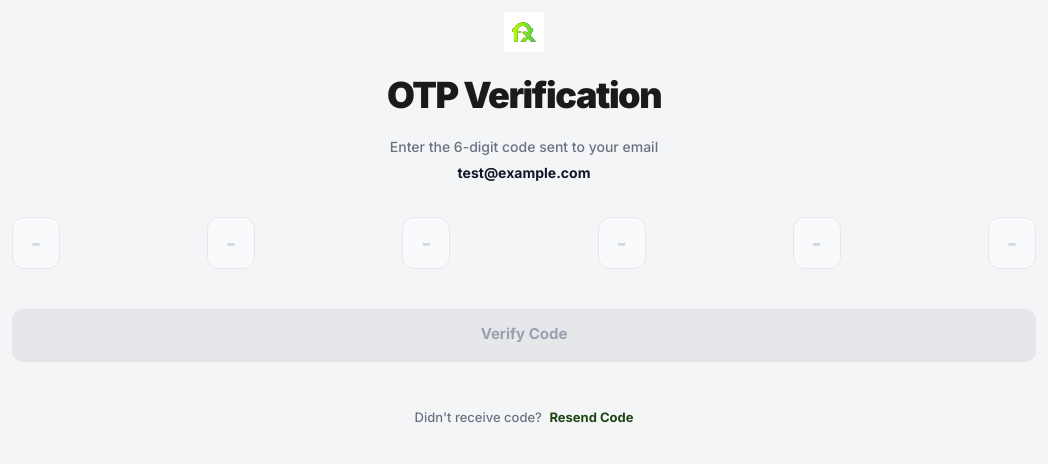
Test case: OtpVerification Component › shows error when OTP is incomplete
// Fill only 3 digits
Type "1" into the 1st field with placeholder "-". click: (36, 243)
box: x1=12 y1=217 x2=60 y2=269
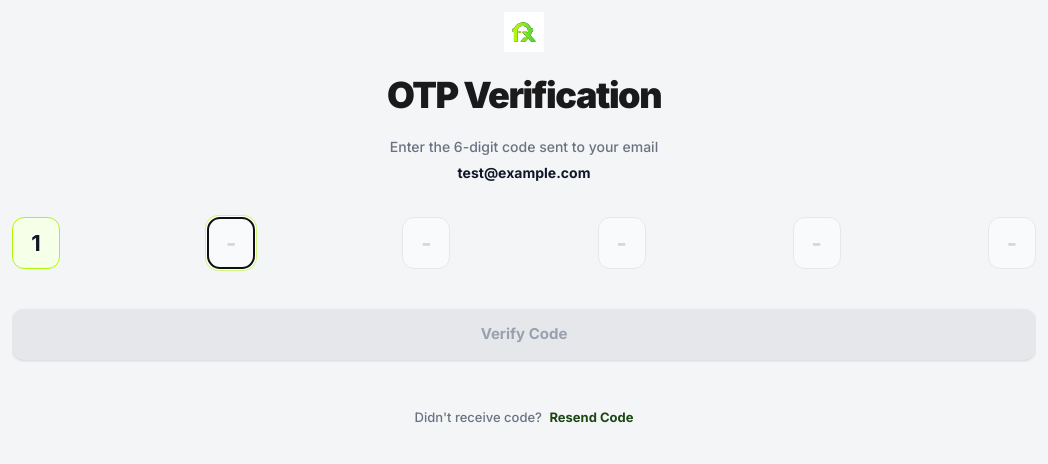
Type "2" into the 1st field with placeholder "-". click: (231, 243)
box: x1=207 y1=217 x2=255 y2=269
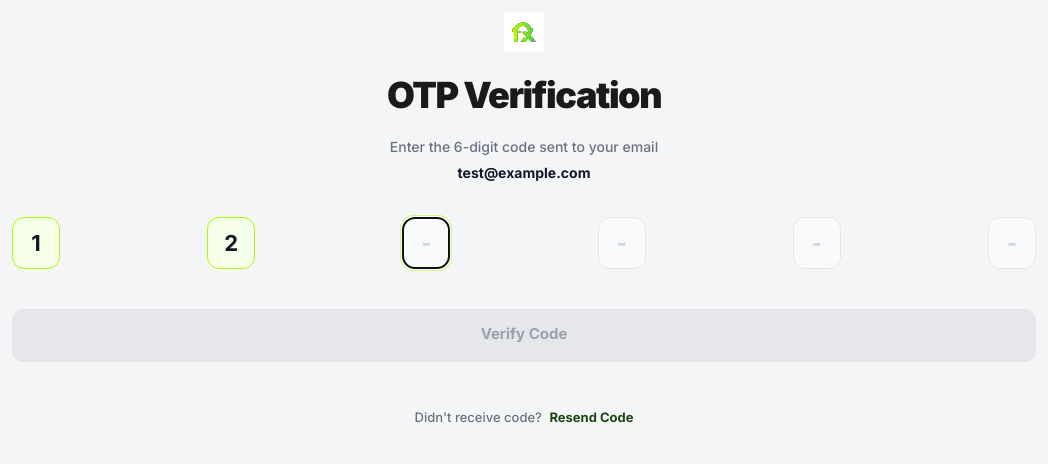
Type "3" into the 1st field with placeholder "-". click: (426, 243)
box: x1=402 y1=217 x2=450 y2=269
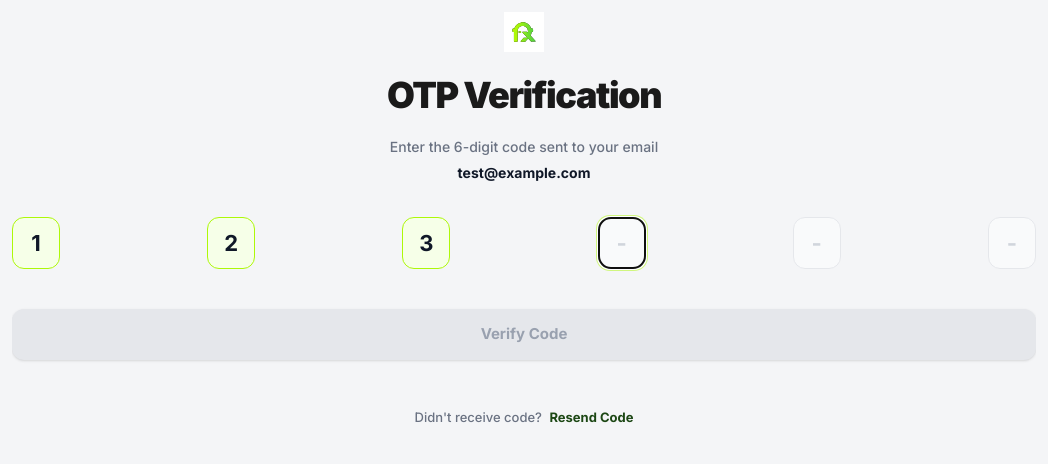
Click the button "Verify Code". click: (524, 334)
box: x1=12 y1=309 x2=1036 y2=360
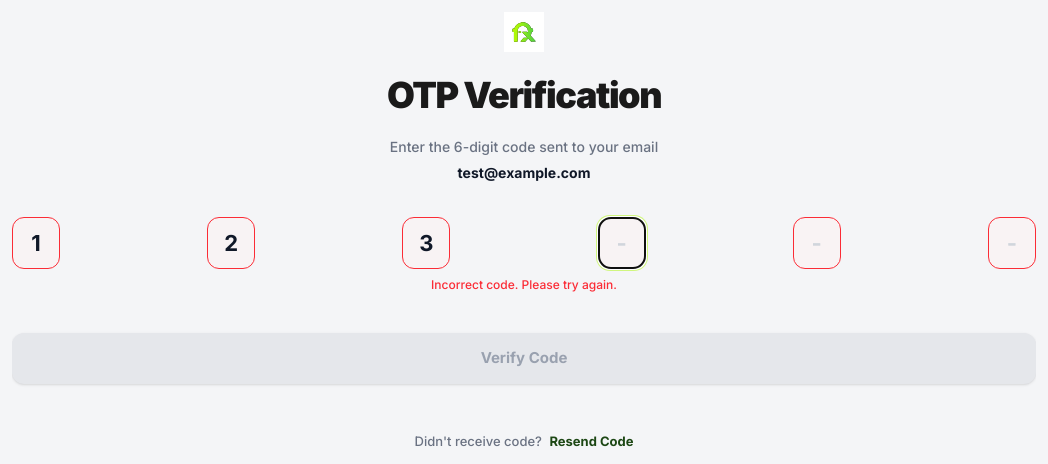
Expected: the text "Incorrect code. Please try again." is shown, x1=431 y1=277 x2=617 y2=292
